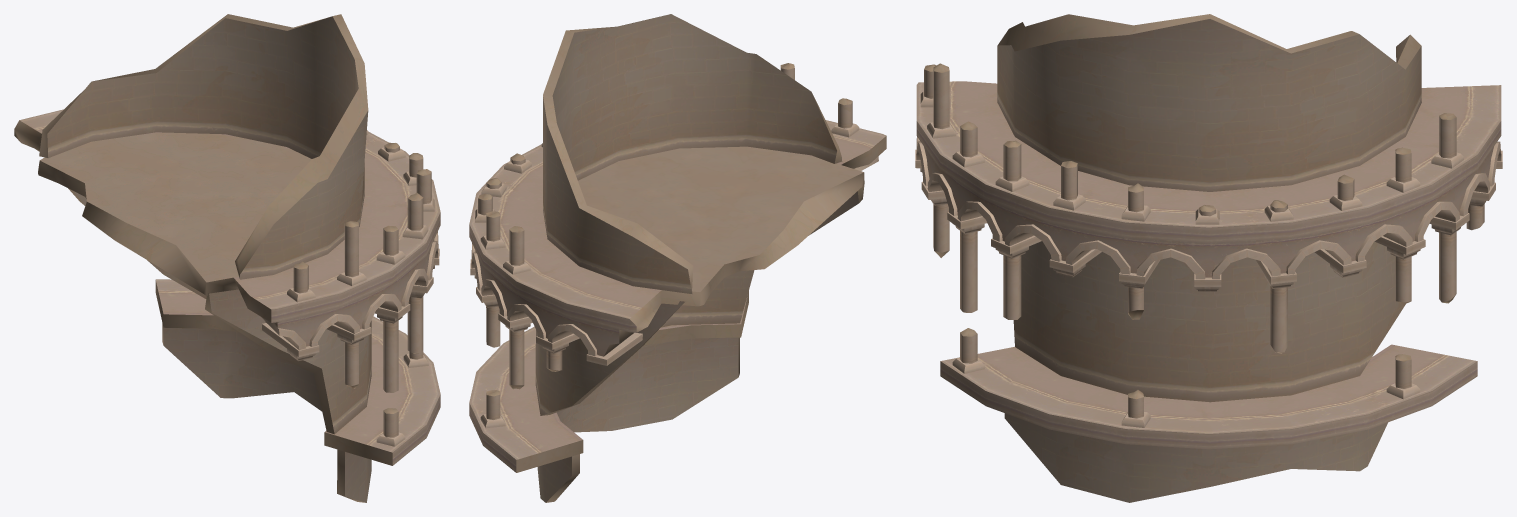
The model's file is PF_Desertnew_Tower06.fbx.
The picture shows the model from 3 angles, left to right: view 1: azimuth 30°, elevation 25°; view 2: azimuth 150°, elevation 25°; view 3: azimuth 270°, elevation 25°; orthographic projection. The views are drawn at different scales.
Visible parts, largest first — view 1: SM_Desertnew_tower06_a, SM_Desertnew_tower06_c, SM_Desertnew_tower06_b; view 2: SM_Desertnew_tower06_a, SM_Desertnew_tower06_c, SM_Desertnew_tower06_b; view 3: SM_Desertnew_tower06_a, SM_Desertnew_tower06_b, SM_Desertnew_tower06_c.
Part boxes in pixels (bbox=[...]): SM_Desertnew_tower06_a: bbox=[19, 16, 440, 502]; SM_Desertnew_tower06_c: bbox=[14, 14, 431, 502]; SM_Desertnew_tower06_b: bbox=[261, 130, 439, 446]; SM_Desertnew_tower06_a: bbox=[469, 14, 886, 502]; SM_Desertnew_tower06_c: bbox=[478, 19, 886, 502]; SM_Desertnew_tower06_b: bbox=[470, 65, 878, 428]; SM_Desertnew_tower06_a: bbox=[916, 19, 1501, 502]; SM_Desertnew_tower06_b: bbox=[915, 68, 1502, 427]; SM_Desertnew_tower06_c: bbox=[924, 14, 1479, 399].
Size of the model in its own units: 45.33 by 63.1 by 68.79.
